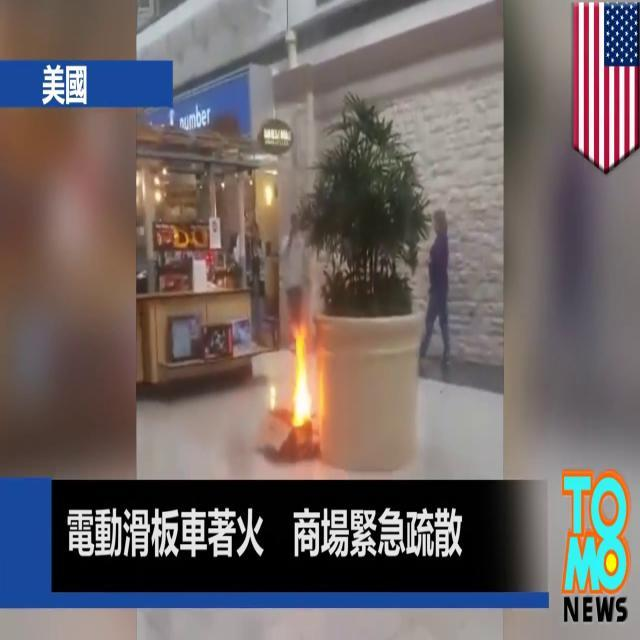Fire: (287, 321, 316, 431)
